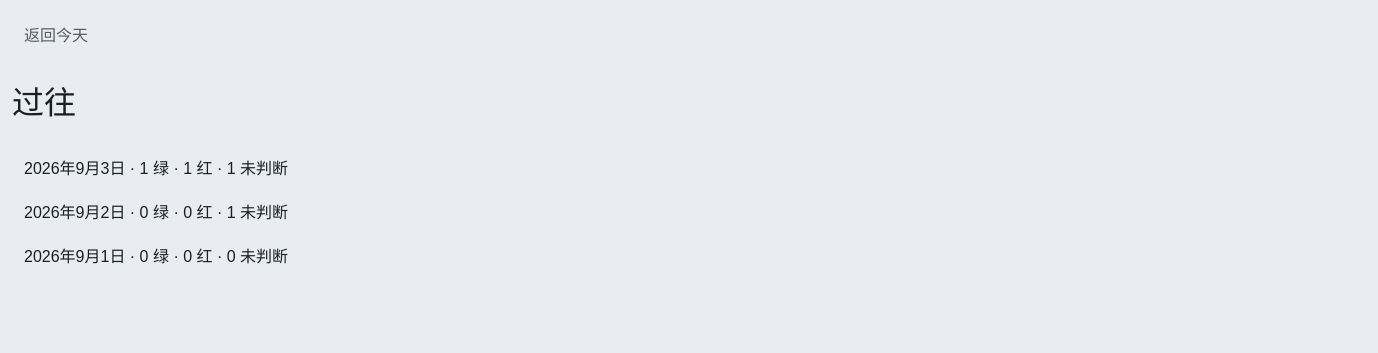
HistoryPage › omits today and empty notes from historical groups
Step 1. Click the button "2026年9月2日 · 0 绿 · 0 红 · 1 未判断" → (156, 211), box [12,189,300,233]
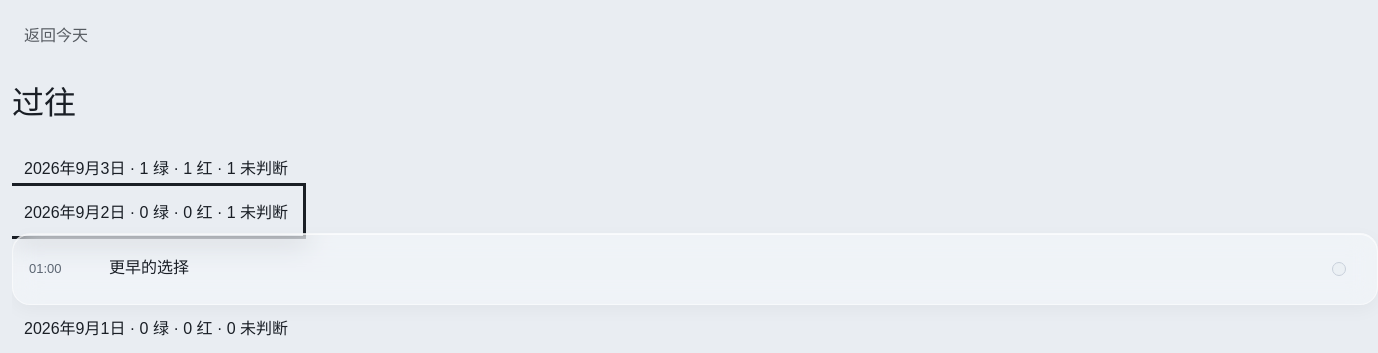
expect the text "更早的选择" is shown: met, box [109,260,189,276]
